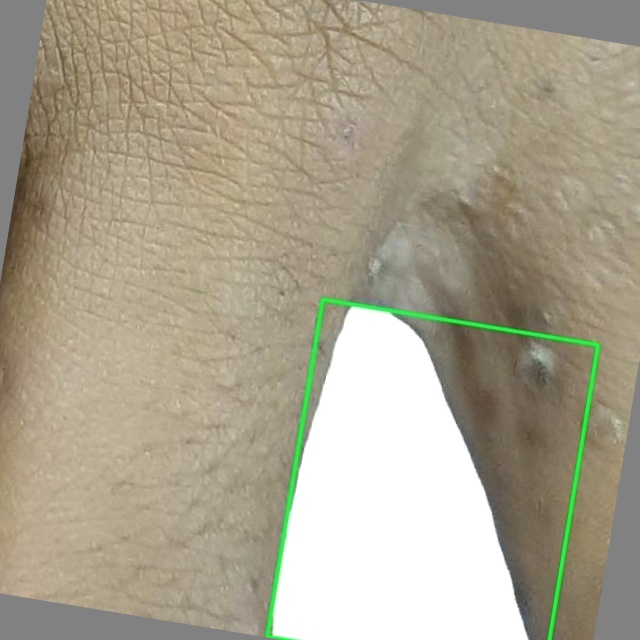Scabies: (267, 299, 598, 639)
